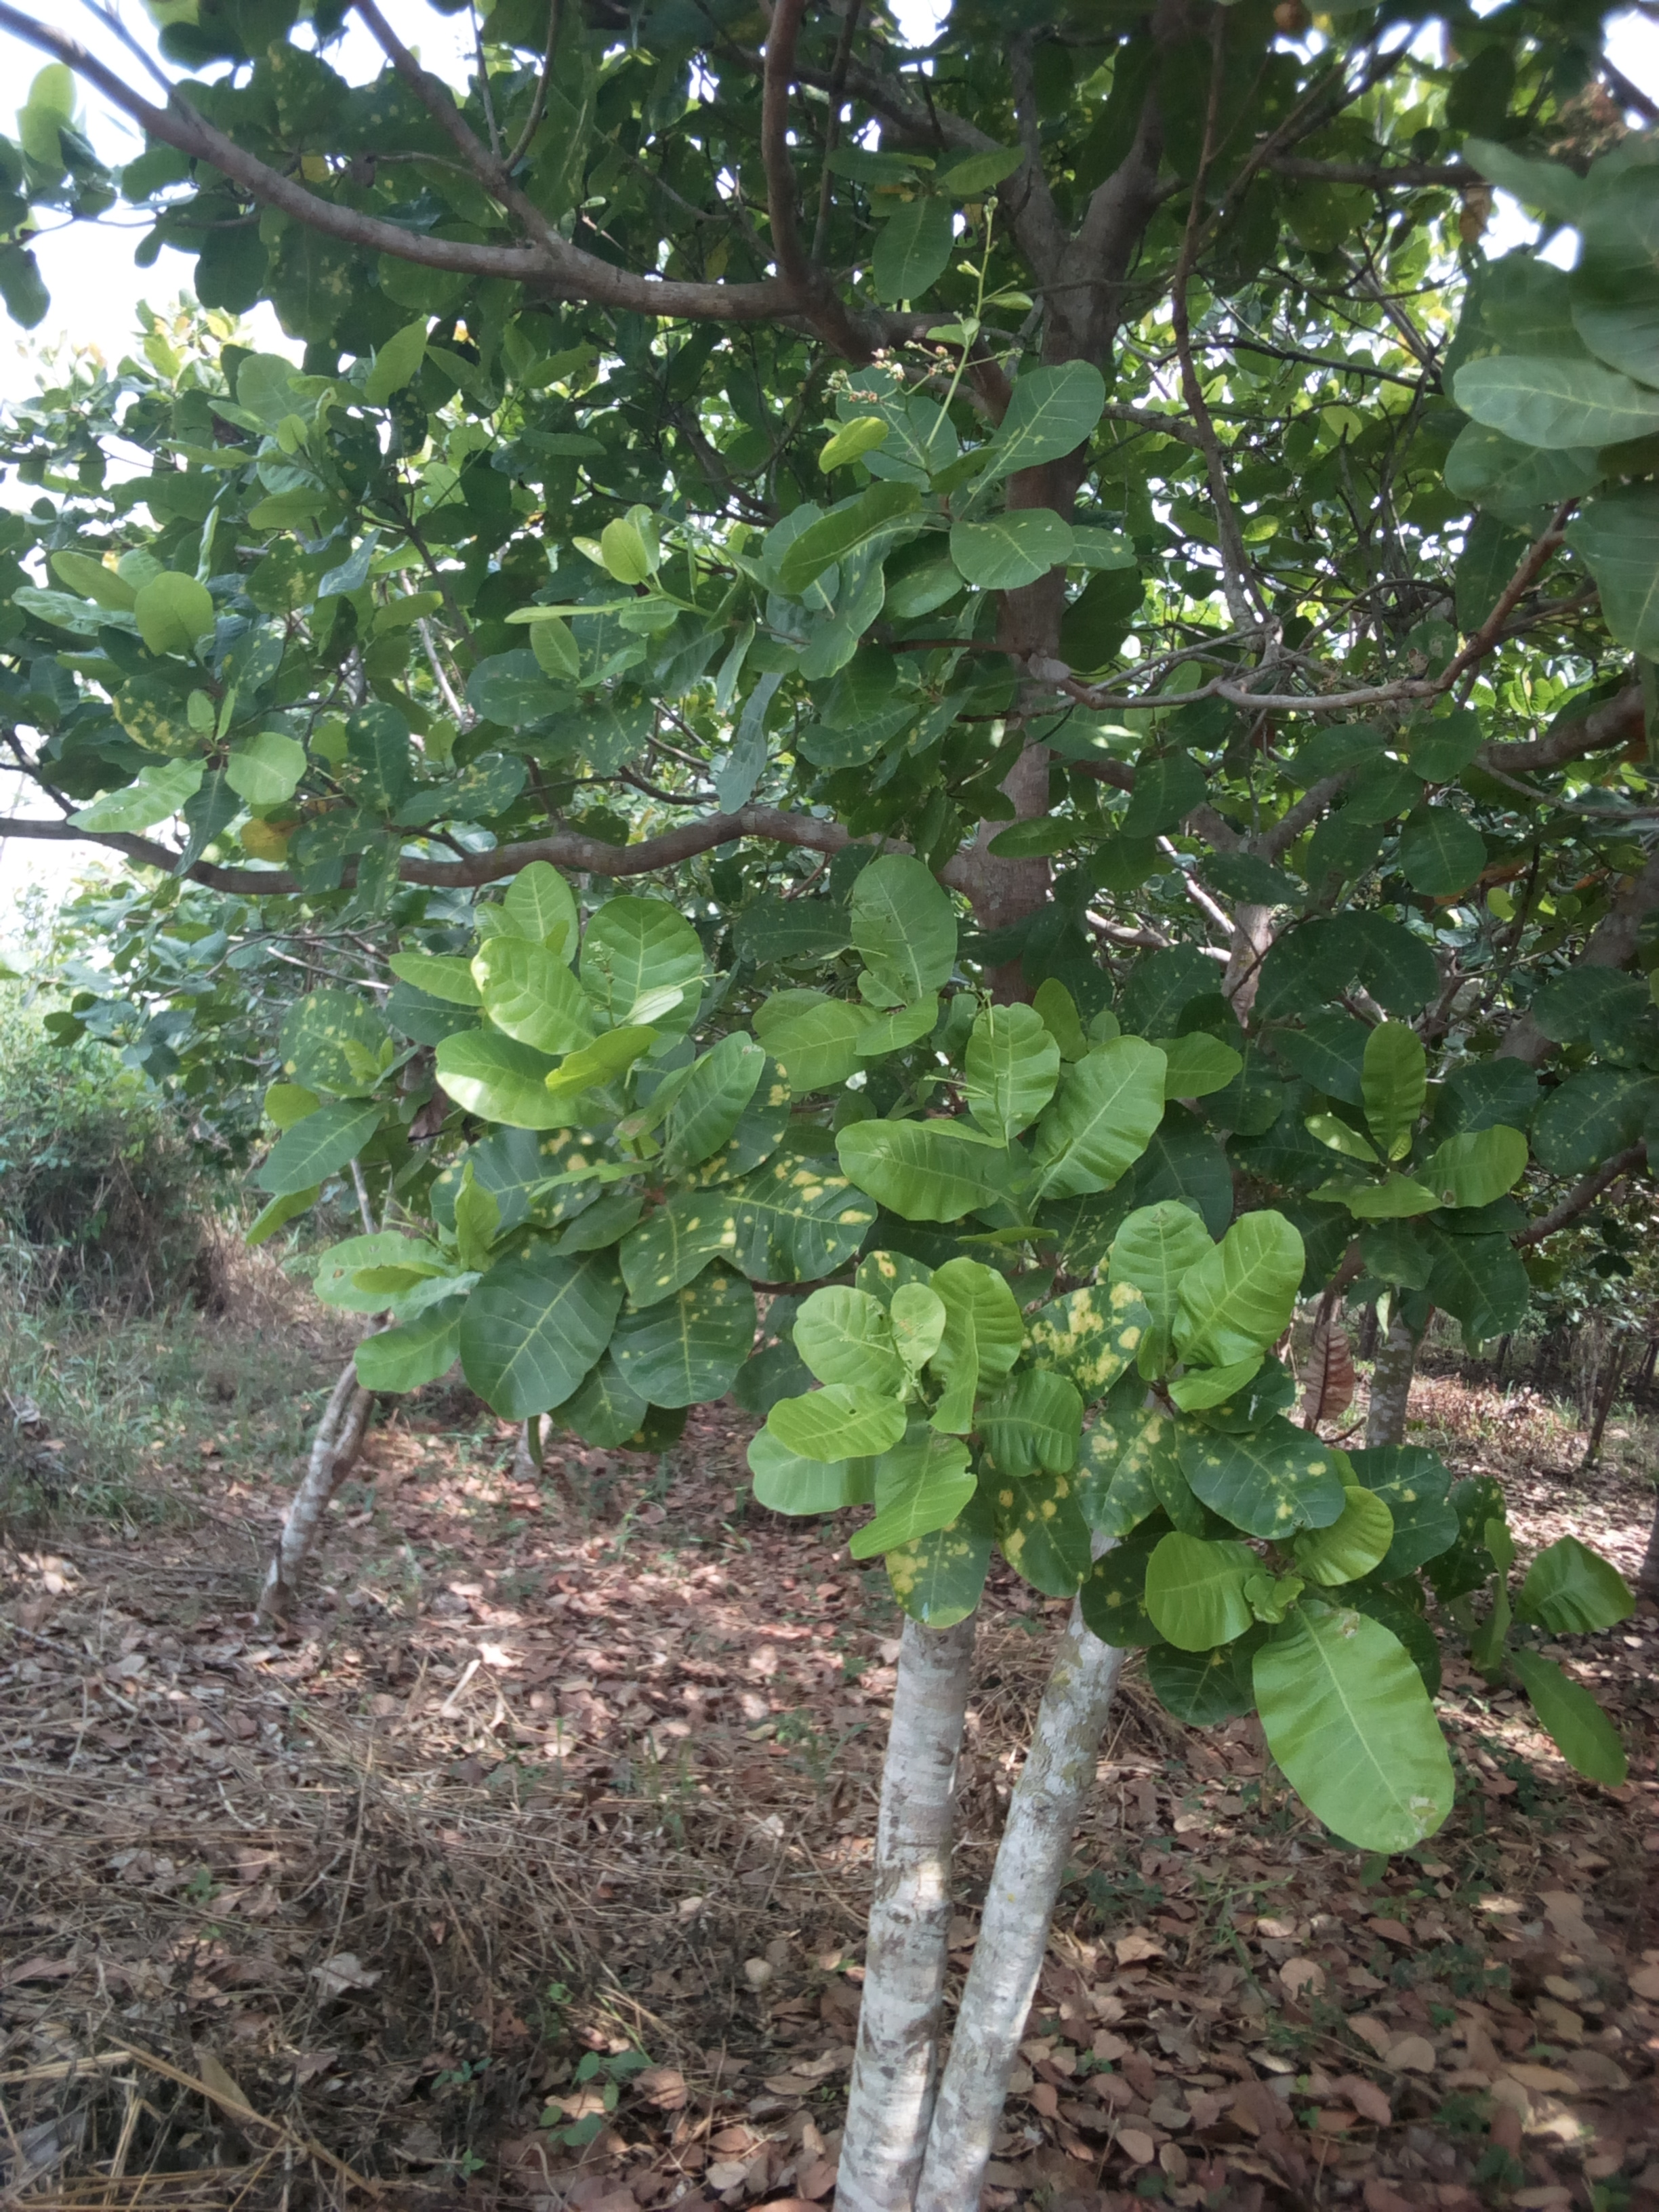Carence minérale: (976, 1458, 1168, 1611), (1171, 1414, 1361, 1550), (596, 1150, 739, 1317), (721, 1143, 877, 1292), (1026, 1275, 1182, 1397), (870, 1515, 999, 1658)
